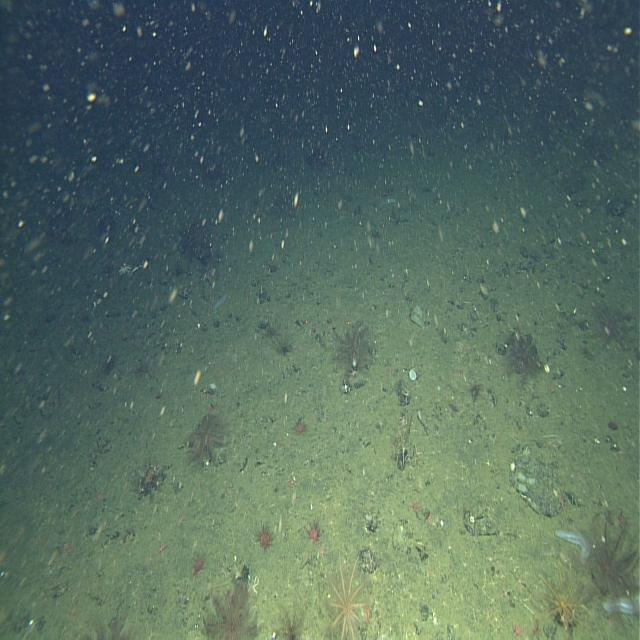Brittle Star: (507, 612, 526, 638)
Not Brittle Star: (582, 504, 638, 596), (529, 556, 588, 632), (198, 574, 264, 638), (323, 544, 368, 634), (180, 403, 232, 476), (332, 318, 378, 377), (503, 326, 541, 390), (551, 520, 588, 562), (601, 588, 638, 624), (253, 517, 276, 554), (187, 548, 207, 580), (210, 289, 231, 314), (308, 518, 323, 545), (406, 365, 417, 383)
